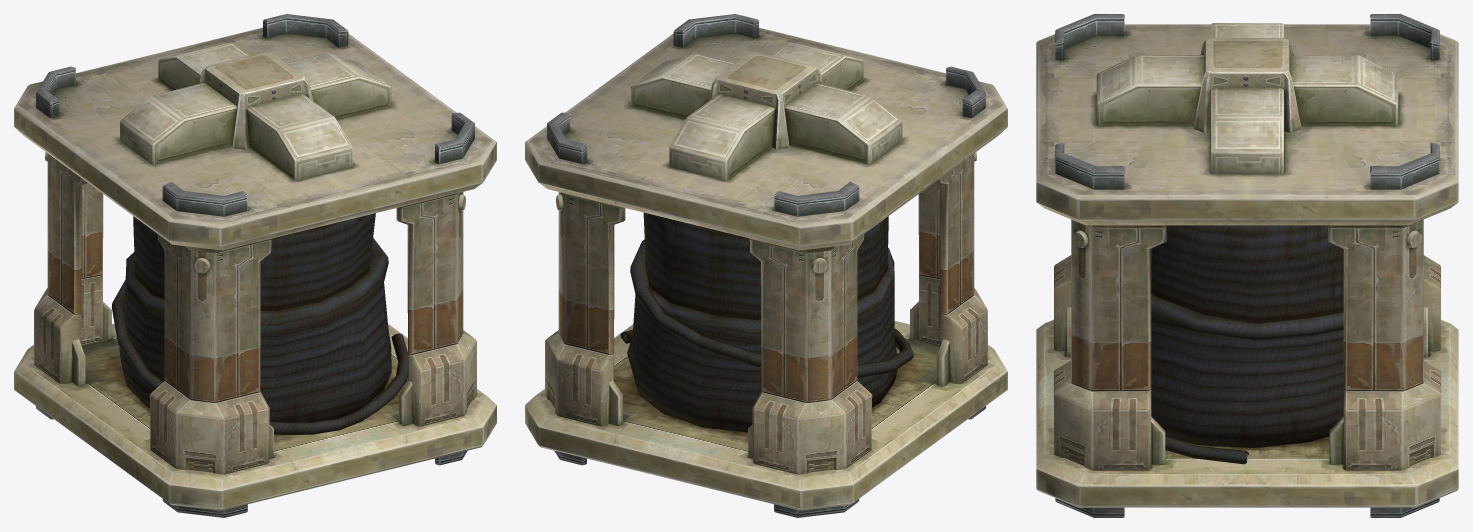
The model's file is all_item_construction_spool.glb.
3 views of the same model, side by side, from view 1: azimuth 30°, elevation 25°; view 2: azimuth 150°, elevation 25°; view 3: azimuth 270°, elevation 25° (orthographic). The views are drawn at different scales.
Parts seen in each view (by area): view 1: all_item_construction_spool; view 2: all_item_construction_spool; view 3: all_item_construction_spool.
Part boxes in pixels (box(x1,y1,x2,y2)): all_item_construction_spool: box(14, 14, 496, 517); all_item_construction_spool: box(525, 14, 1007, 517); all_item_construction_spool: box(1036, 14, 1458, 517).
Size of the model in its own units: 0.4471 by 0.4614 by 0.4575.
Materials: 2 (2 with a texture image).
